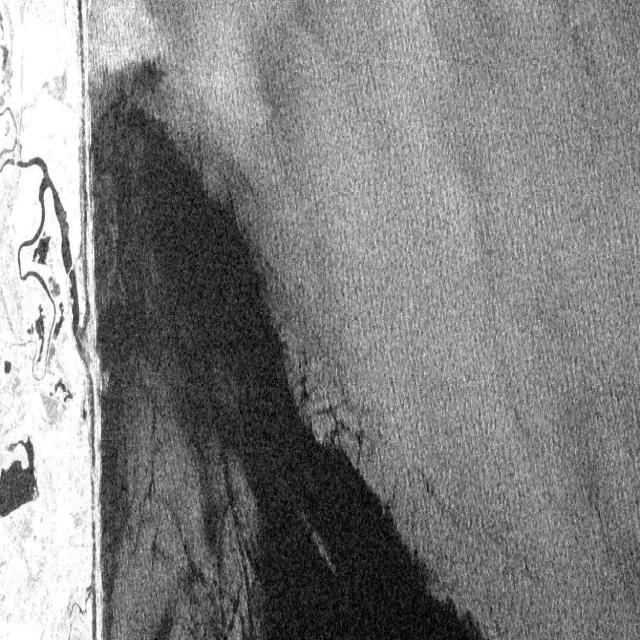look-alike: (95, 93, 305, 425), (234, 435, 480, 636)
